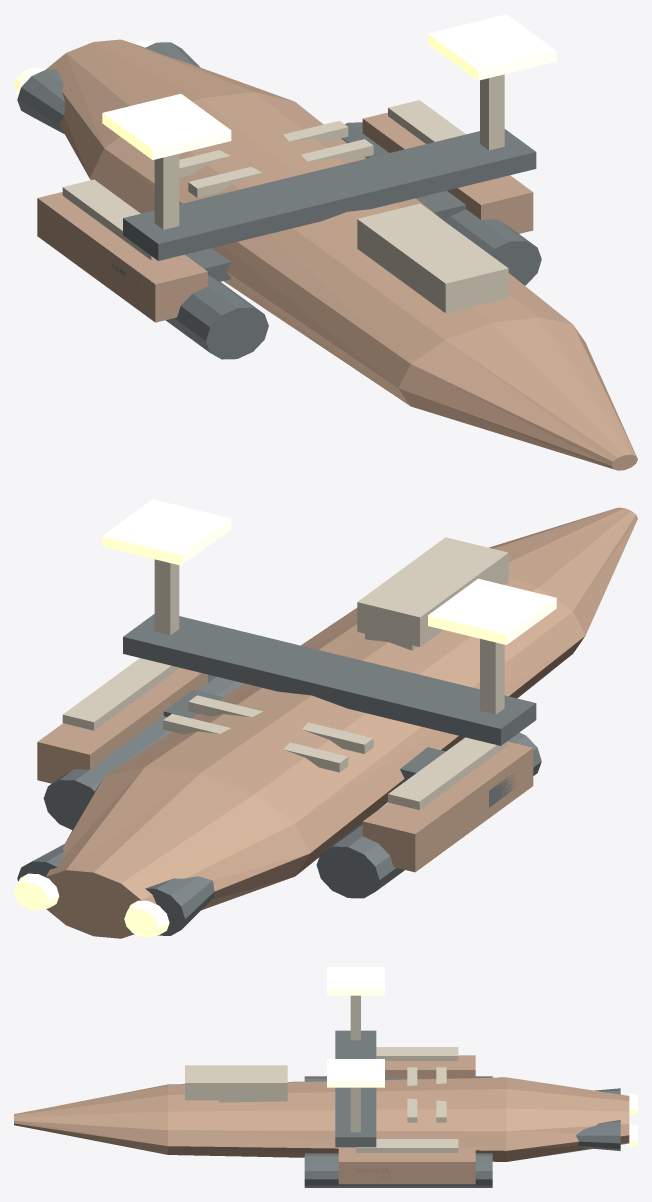
The picture shows the model from 3 angles, top to bottom: view 1: azimuth 30°, elevation 25°; view 2: azimuth 150°, elevation 25°; view 3: azimuth 270°, elevation 25°; orthographic projection. The views are drawn at different scales.
Size of the model in its own units: 3.54 by 1.82 by 8.18.
